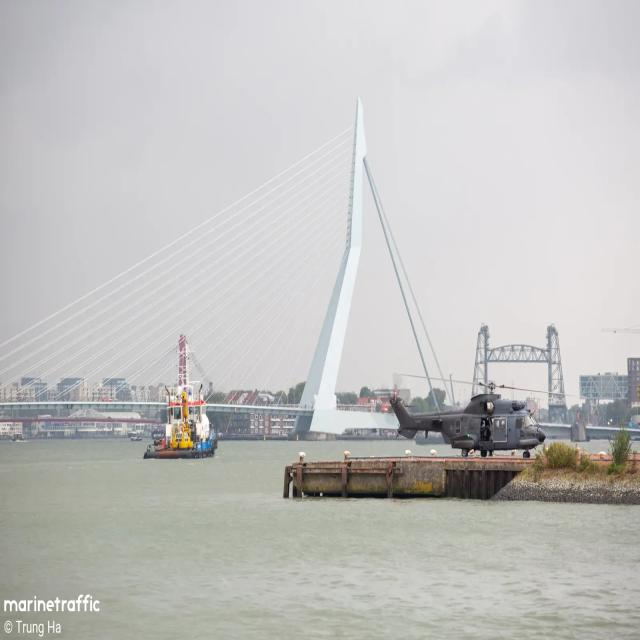Tug: (144, 336, 217, 458)
